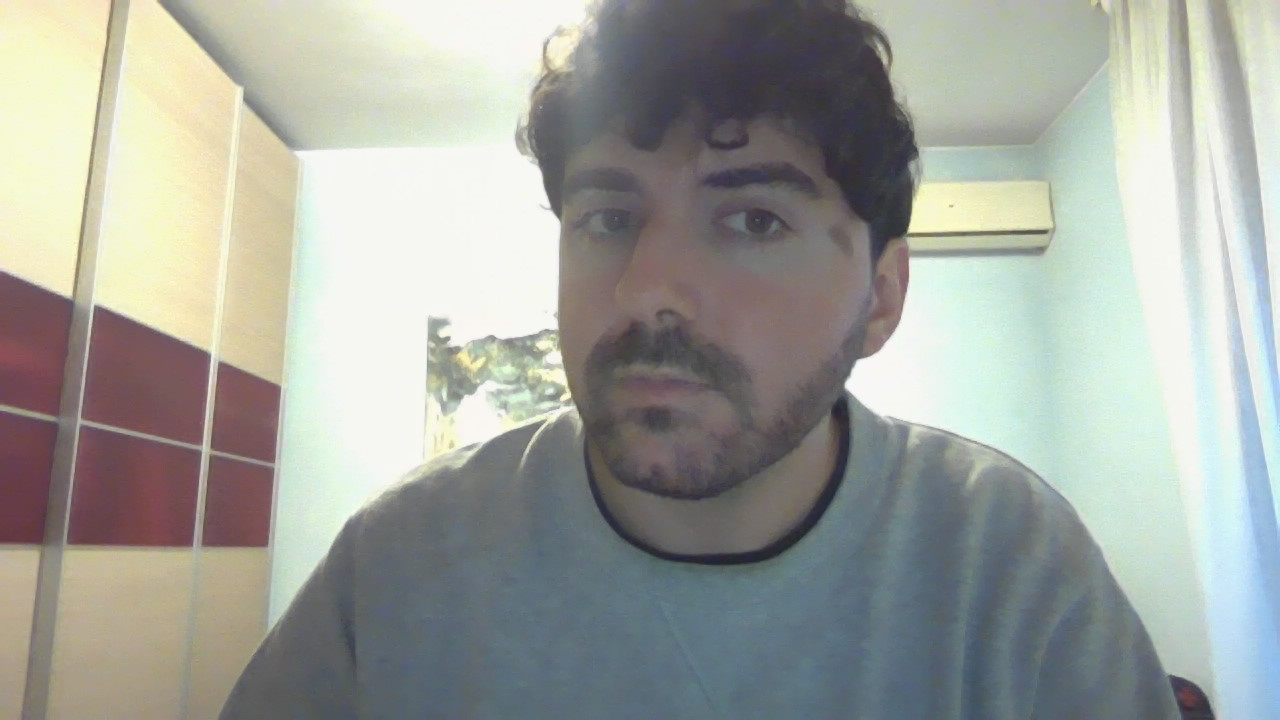NoGlasses: (532, 161, 912, 277)
